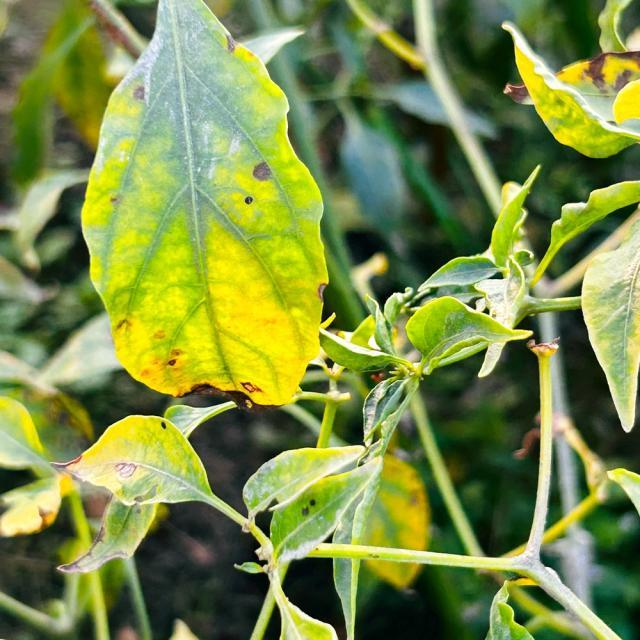Bercak Daun Serkospora: (80, 0, 330, 407)
